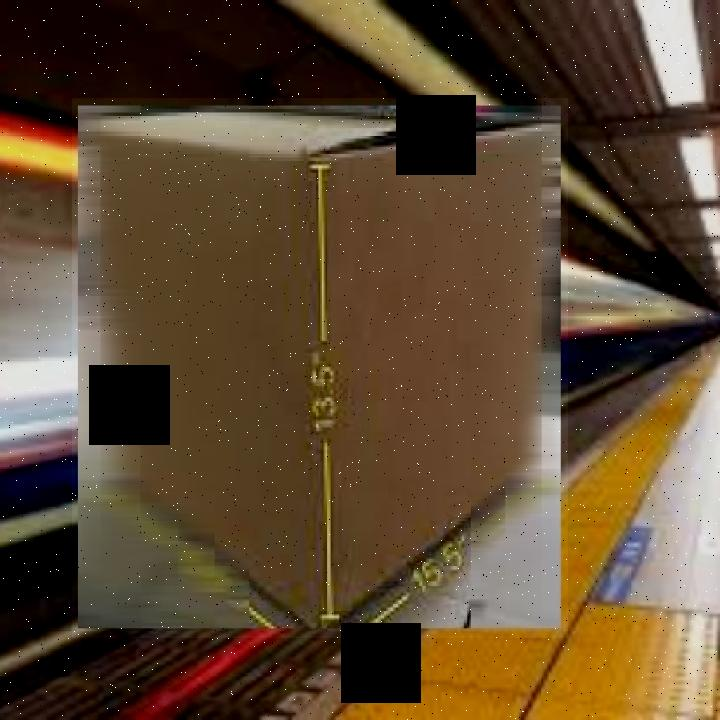box: (72, 98, 568, 638)
